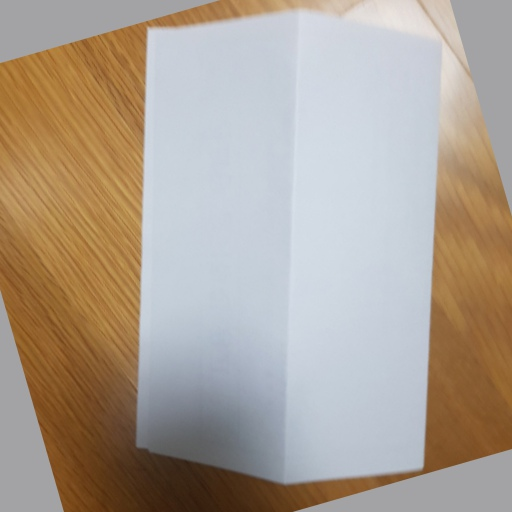Paper_3: (130, 2, 435, 492)
